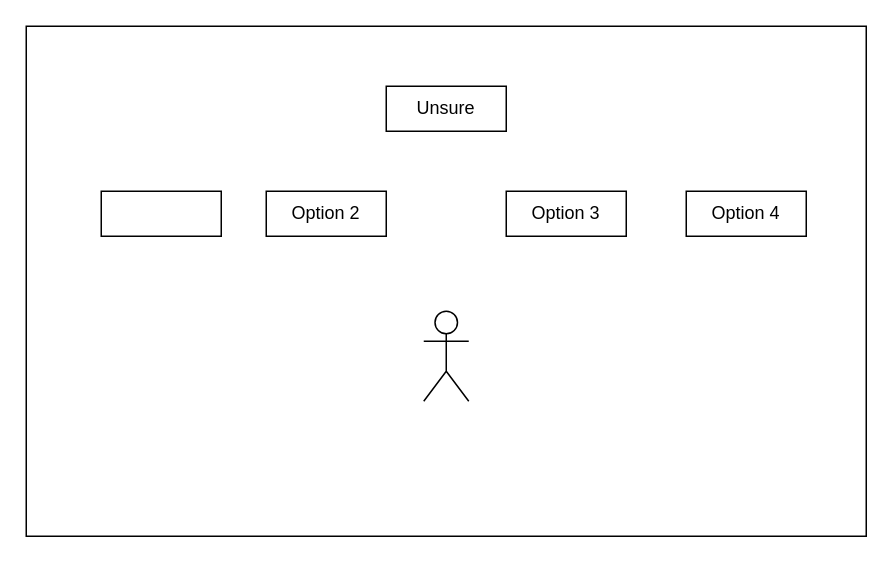
This 893x563 diagram has some shape labels left out. The centre of each missing label's shape, as x and y in pixels:
"Option 1" goes at point (160, 213).
"Target" goes at point (445, 355).
